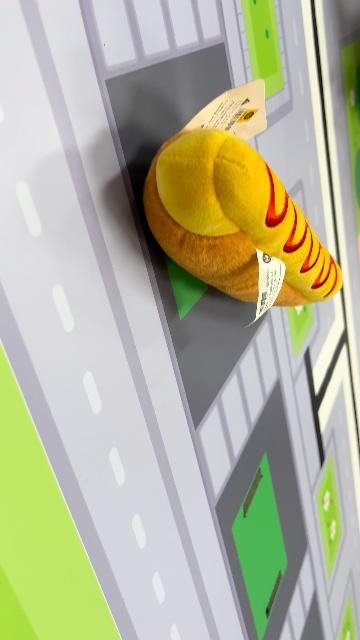hotdog: (142, 126, 344, 316)
